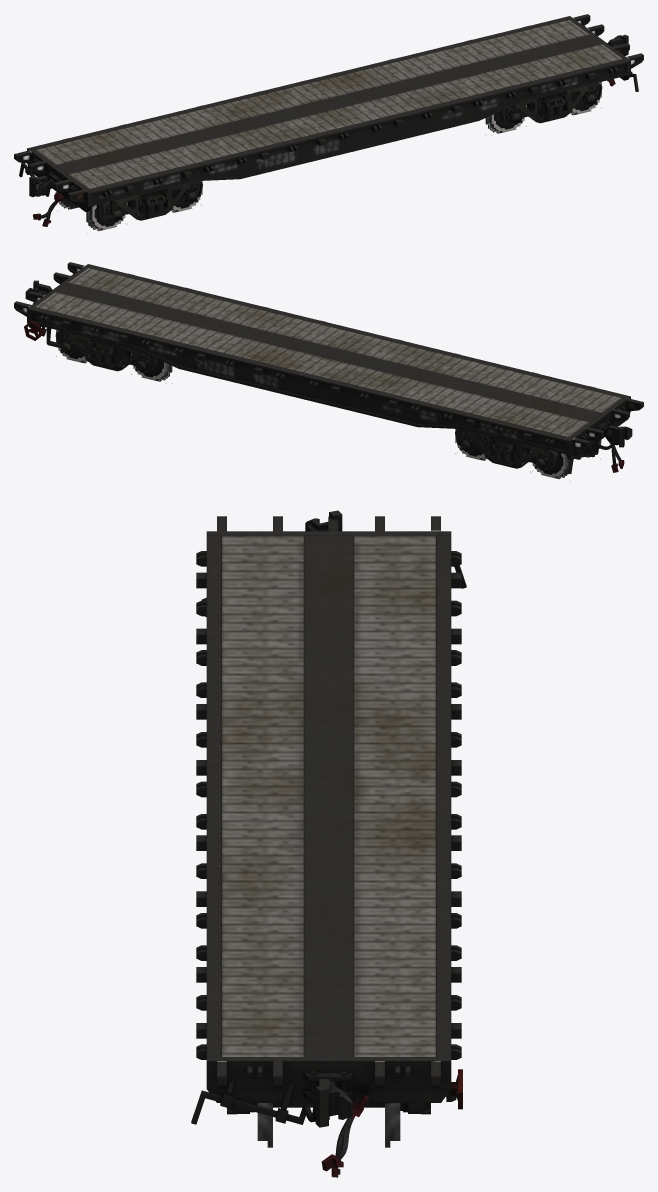
Rendered from mvp_ir_cargoflat.obj.
3 views of the same model, one above another, from view 1: azimuth 30°, elevation 25°; view 2: azimuth 150°, elevation 25°; view 3: azimuth 270°, elevation 25° (orthographic). The views are drawn at different scales.
Visible parts, largest first — view 1: FRAME_cargoflat, BOGEY_REAR_cargoflat, BOGEY_FRONT_cargoflat, BOGEY_FRONT_WHEEL_1_cargoflat, BOGEY_REAR_WHEEL_1_cargoflat; view 2: FRAME_cargoflat, BOGEY_FRONT_cargoflat, BOGEY_REAR_cargoflat, BOGEY_FRONT_WHEEL_1_cargoflat, BOGEY_REAR_WHEEL_1_cargoflat; view 3: FRAME_cargoflat, BOGEY_REAR_WHEEL_2_cargoflat.
Part boxes in pixels (left/top/right/bottom): FRAME_cargoflat: left=14, top=14, right=643, bottom=220; BOGEY_REAR_cargoflat: left=499, top=82, right=602, bottom=125; BOGEY_FRONT_cargoflat: left=101, top=181, right=202, bottom=222; BOGEY_FRONT_WHEEL_1_cargoflat: left=57, top=193, right=127, bottom=233; BOGEY_REAR_WHEEL_1_cargoflat: left=485, top=105, right=526, bottom=135; FRAME_cargoflat: left=14, top=262, right=643, bottom=459; BOGEY_FRONT_cargoflat: left=455, top=429, right=558, bottom=470; BOGEY_REAR_cargoflat: left=55, top=330, right=158, bottom=373; BOGEY_FRONT_WHEEL_1_cargoflat: left=530, top=440, right=601, bottom=481; BOGEY_REAR_WHEEL_1_cargoflat: left=131, top=353, right=172, bottom=383; FRAME_cargoflat: left=196, top=510, right=462, bottom=1127; BOGEY_REAR_WHEEL_2_cargoflat: left=255, top=1103, right=402, bottom=1147.
Bounding box in the file's own units: 16.88 × 1.5 × 3.37.
